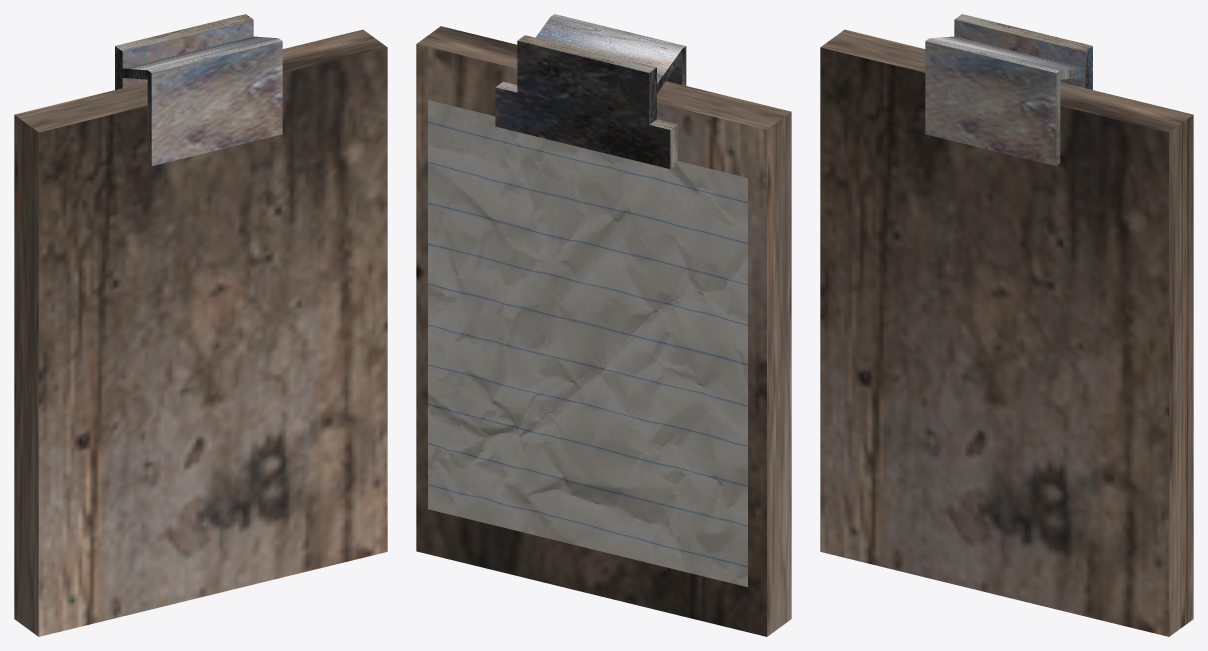
Rendered from clipboard.glb.
The picture shows the model from 3 angles, left to right: view 1: azimuth 30°, elevation 25°; view 2: azimuth 150°, elevation 25°; view 3: azimuth 330°, elevation 25°; orthographic projection.
Visible parts, largest first — view 1: clipboard; view 2: Paper, clipboard; view 3: clipboard.
Part boxes in pixels (left/top/right/bottom): clipboard: left=14, top=14, right=387, bottom=636; Paper: left=428, top=100, right=747, bottom=587; clipboard: left=416, top=14, right=791, bottom=636; clipboard: left=820, top=14, right=1193, bottom=636.
Bounding box in the file's own units: 2.52 × 3.73 × 0.4601.
Materials: 4 (4 with a texture image).
